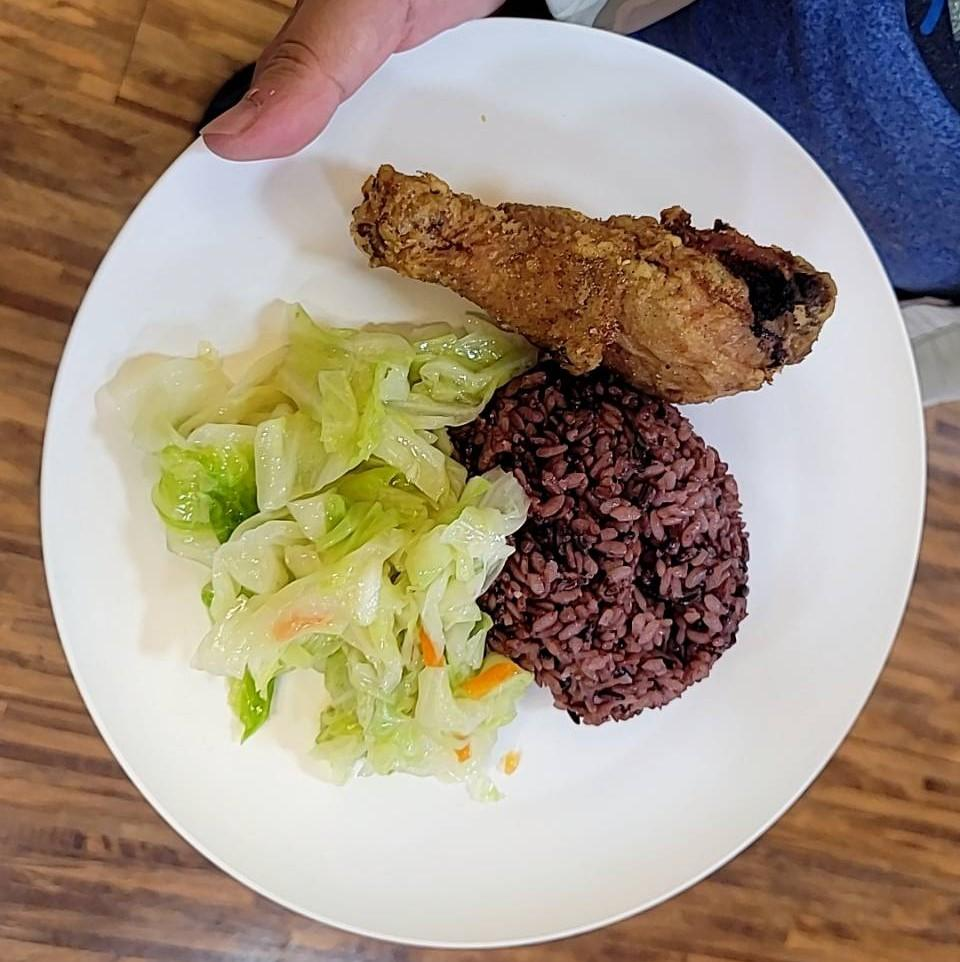big fried chicken leg: (24, 18, 932, 947)
braised fish: (468, 362, 758, 719)
braised fish fillet: (105, 314, 516, 789)
braised pork: (348, 152, 843, 407)
